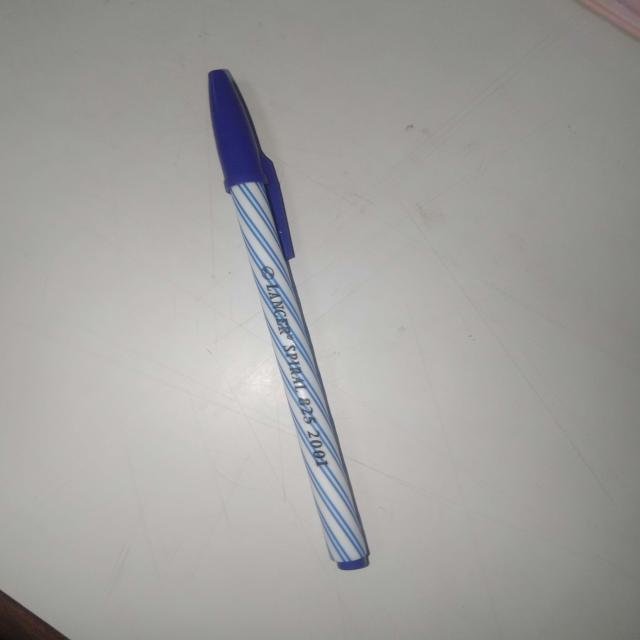pen_pencil: (129, 37, 473, 583)
